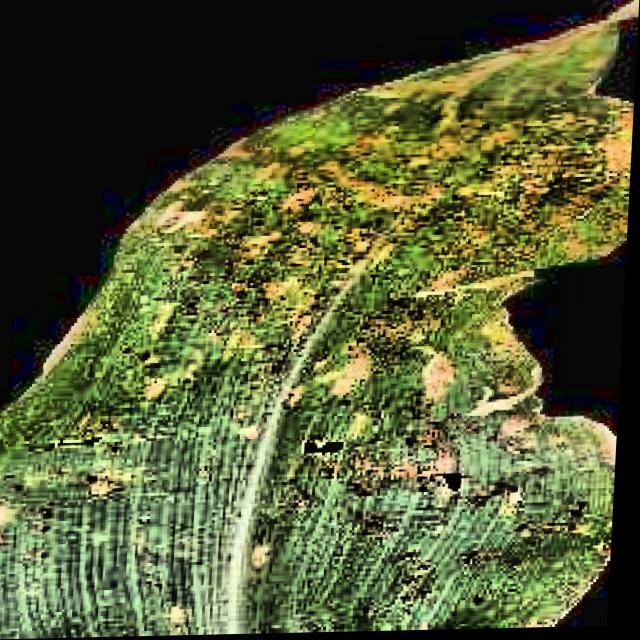tobacco: (0, 20, 635, 640)
